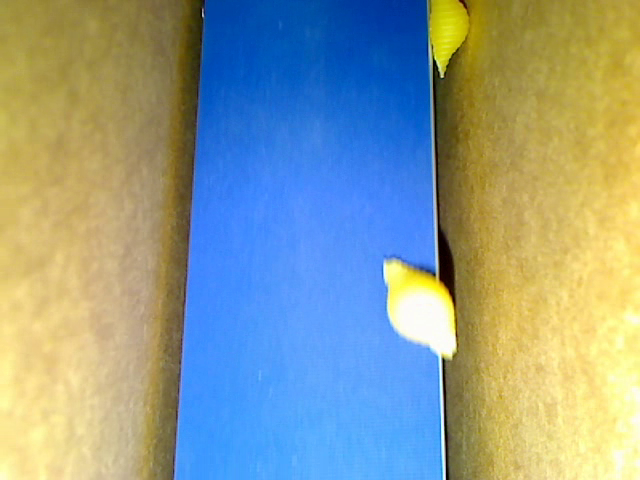shell: (381, 254, 455, 361), (427, 1, 470, 77)
